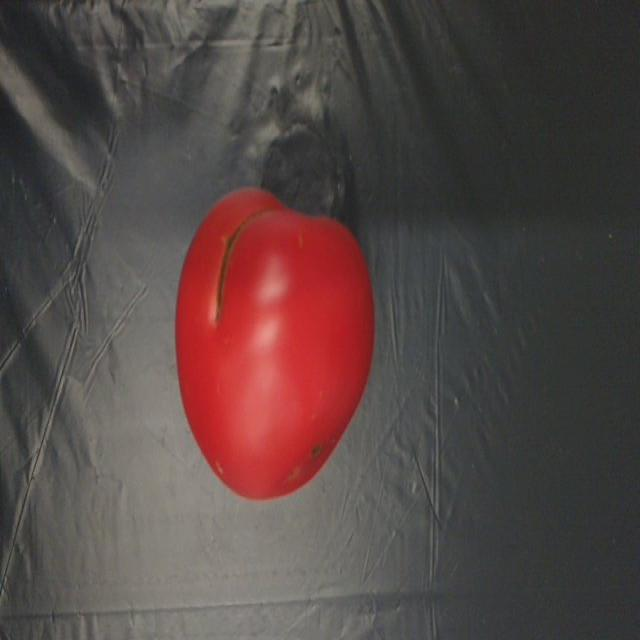kirmizi: (174, 170, 402, 524)
